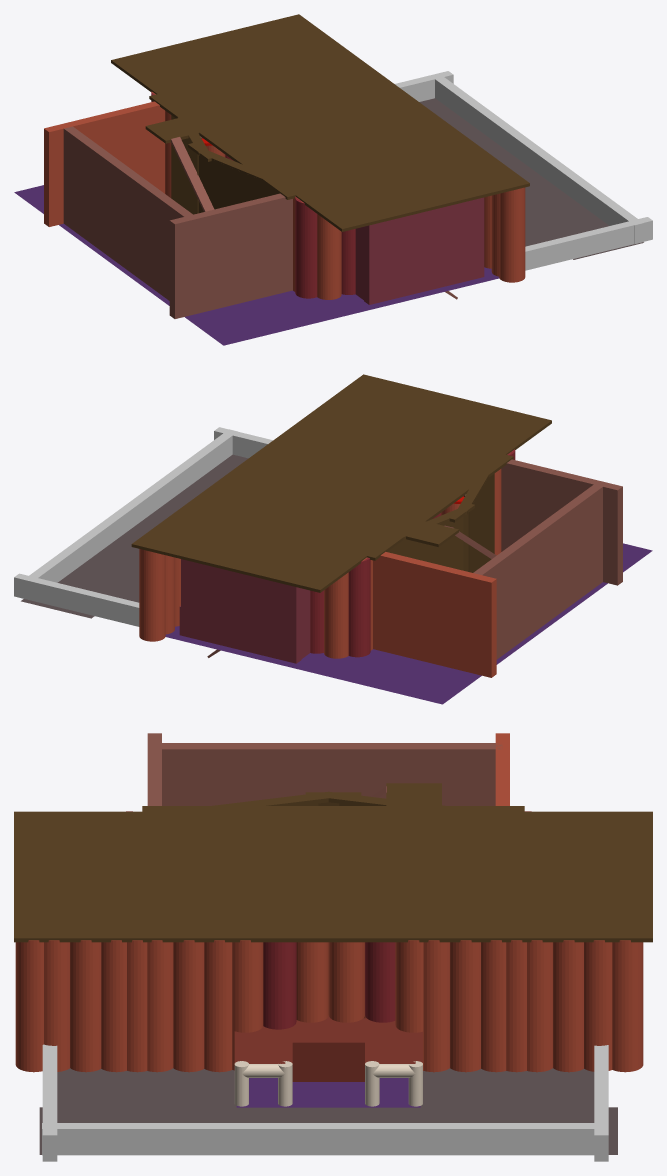
File: theater2.dae
3 renders of one model, top to bottom at view 1: azimuth 30°, elevation 25°; view 2: azimuth 150°, elevation 25°; view 3: azimuth 270°, elevation 25°, orthographic. The views are drawn at different scales.
Parts seen in each view (by area): view 1: roof_004, Cylinder_077_137, Cylinder_077_138, Cylinder_077_108, Cylinder_077_122, Cylinder_077_119, Cylinder_077_169, Cylinder_077_173, Cylinder_077_113, Cylinder_077_155, Cylinder_077_121, Cylinder_077_104 (+11 smaller); view 2: roof_004, Cylinder_077_119, Cylinder_077_138, Cylinder_077_062, Cylinder_077_122, Cylinder_077_137, Cylinder_077_169, Cylinder_077_173, Cylinder_077_168, Cylinder_077_159, Cylinder_077_074, Cylinder_077_069 (+10 smaller); view 3: roof_004, Cylinder_077_138, Cylinder_077_169, Cylinder_077_173, Cylinder_077_172, Cylinder_077_171, Cylinder_077_151, Cylinder_077_153, Cylinder_077_159, Cylinder_077_161, Cylinder_077_165, Cylinder_077_170 (+32 smaller).
Part boxes in pixels (bbox=[...]): roof_004: bbox=[111, 14, 529, 231]; Cylinder_077_137: bbox=[169, 193, 292, 318]; Cylinder_077_138: bbox=[63, 126, 195, 300]; Cylinder_077_108: bbox=[364, 197, 484, 304]; Cylinder_077_122: bbox=[14, 185, 499, 345]; Cylinder_077_119: bbox=[44, 101, 164, 226]; Cylinder_077_169: bbox=[435, 75, 643, 244]; Cylinder_077_173: bbox=[419, 98, 643, 259]; Cylinder_077_113: bbox=[525, 217, 652, 270]; Cylinder_077_155: bbox=[499, 187, 525, 282]; Cylinder_077_121: bbox=[204, 159, 278, 209]; Cylinder_077_104: bbox=[295, 197, 317, 298]; roof_004: bbox=[131, 374, 551, 592]; Cylinder_077_119: bbox=[373, 552, 496, 677]; Cylinder_077_138: bbox=[473, 482, 605, 659]; Cylinder_077_062: bbox=[181, 559, 301, 663]; Cylinder_077_122: bbox=[165, 543, 652, 704]; Cylinder_077_137: bbox=[501, 459, 622, 585]; Cylinder_077_169: bbox=[27, 429, 237, 582]; Cylinder_077_173: bbox=[21, 454, 248, 618]; Cylinder_077_168: bbox=[14, 573, 139, 626]; Cylinder_077_159: bbox=[139, 549, 165, 641]; Cylinder_077_074: bbox=[348, 557, 370, 657]; Cylinder_077_069: bbox=[324, 572, 348, 658]; roof_004: bbox=[14, 811, 652, 942]; Cylinder_077_138: bbox=[155, 743, 502, 805]; Cylinder_077_169: bbox=[42, 1123, 600, 1155]; Cylinder_077_173: bbox=[39, 1107, 617, 1154]; Cylinder_077_172: bbox=[418, 1068, 594, 1113]; Cylinder_077_171: bbox=[57, 1068, 236, 1114]; Cylinder_077_151: bbox=[173, 940, 204, 1072]; Cylinder_077_153: bbox=[70, 940, 101, 1072]; Cylinder_077_159: bbox=[612, 940, 643, 1072]; Cylinder_077_161: bbox=[553, 940, 583, 1072]; Cylinder_077_165: bbox=[450, 940, 480, 1072]; Cylinder_077_170: bbox=[236, 1078, 420, 1107].
Size of the model in its own units: 97.01 by 88.16 by 24.86.
